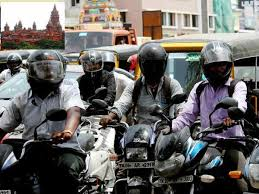helmet: (23, 48, 65, 96), (197, 37, 236, 87), (133, 40, 170, 81), (78, 49, 104, 79)
